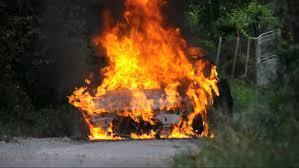fire: (51, 5, 238, 139)
